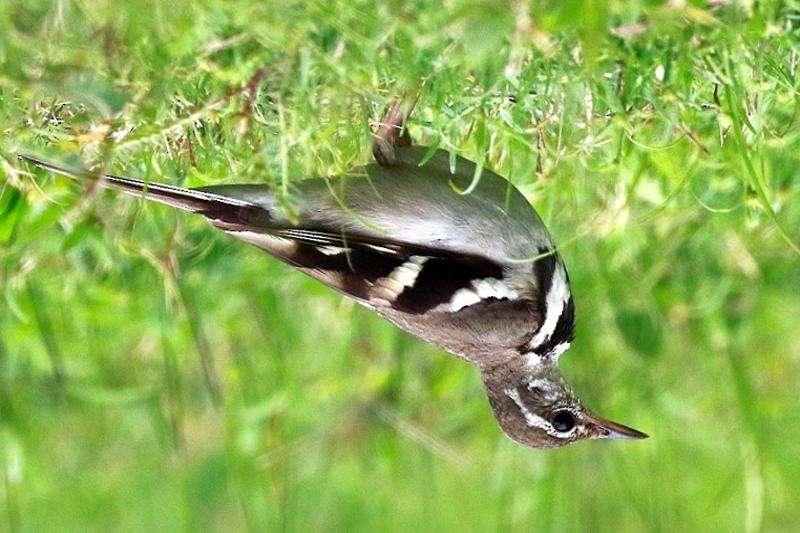wagtail: (177, 103, 658, 450)
